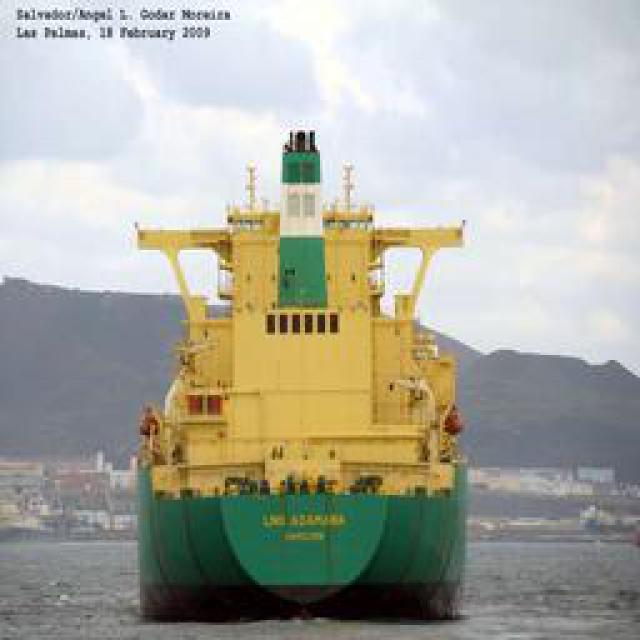Ship: (122, 174, 475, 624)
